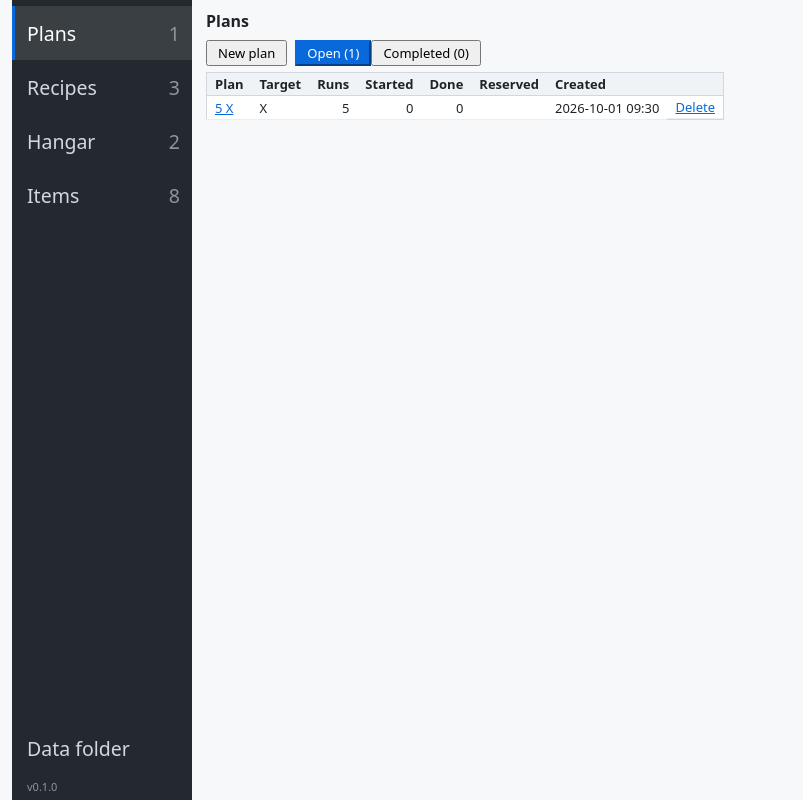
Scenario: from a recipe to a new plan › starts a plan from the recipe list, with that recipe already chosen
Click the button "Recipes 3". click: click(102, 87)
box: [12,60,192,114]
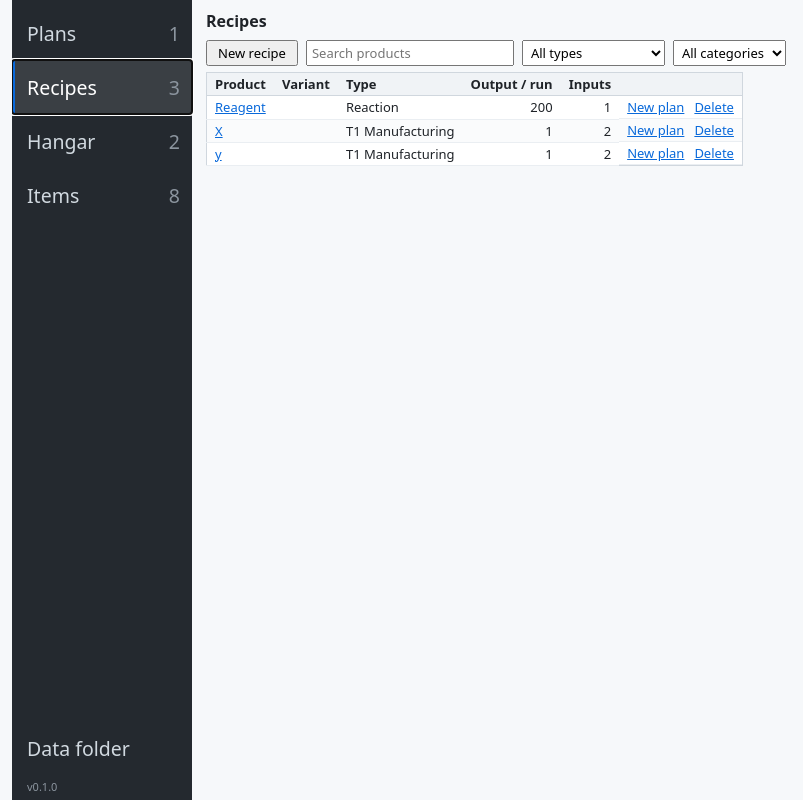
Click the button with aria-label "New plan for Reagent". click: click(656, 107)
box: [627,98,684,116]
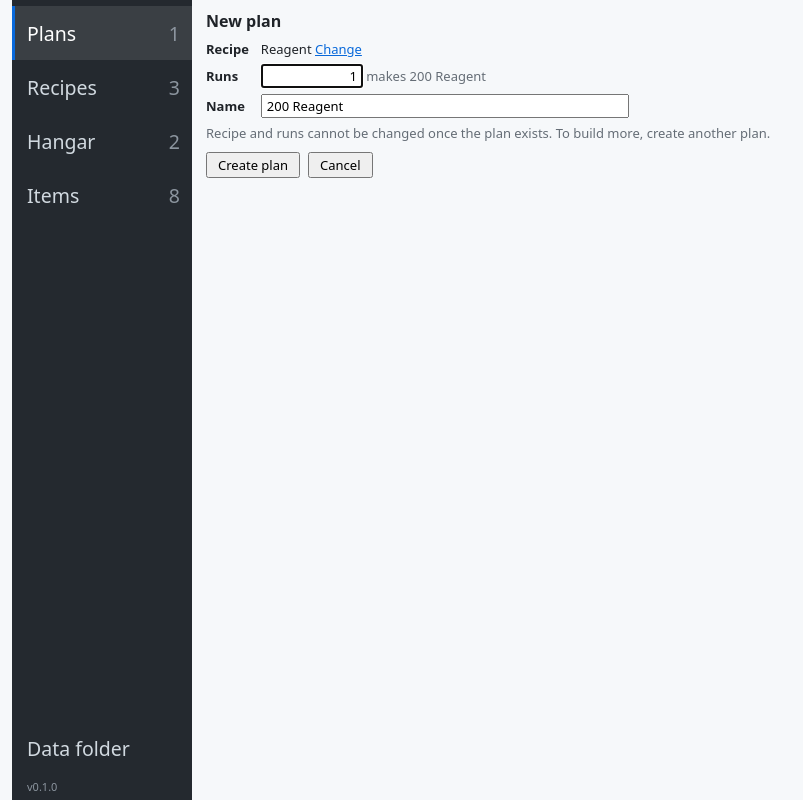
Result: the field labelled "Runs" is shown at [261,64,363,88]
Result: the field labelled "Name" holds "200 Reagent" at [261,94,629,118]
